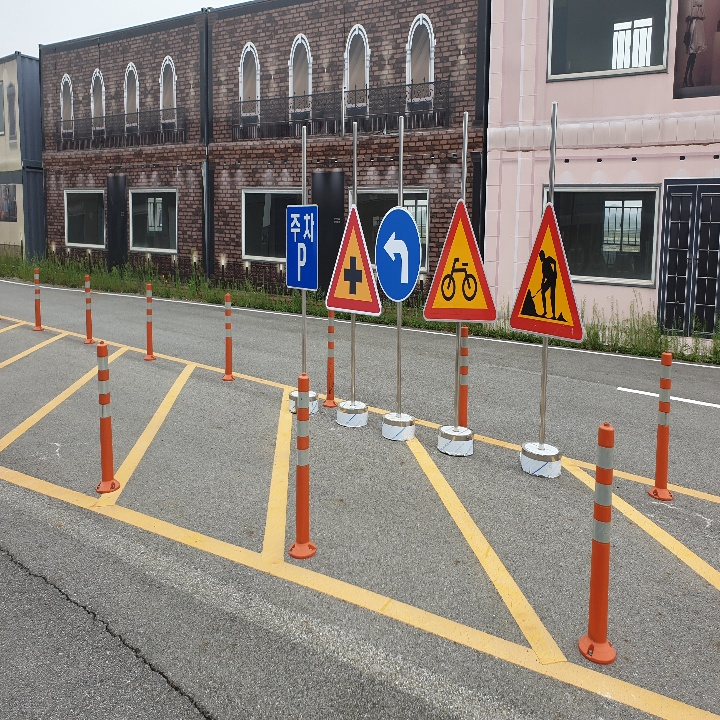bicycle: (426, 203, 498, 318)
const: (518, 242, 573, 324)
inter: (337, 251, 369, 300)
left: (380, 230, 418, 287)
parking: (291, 239, 314, 284)
